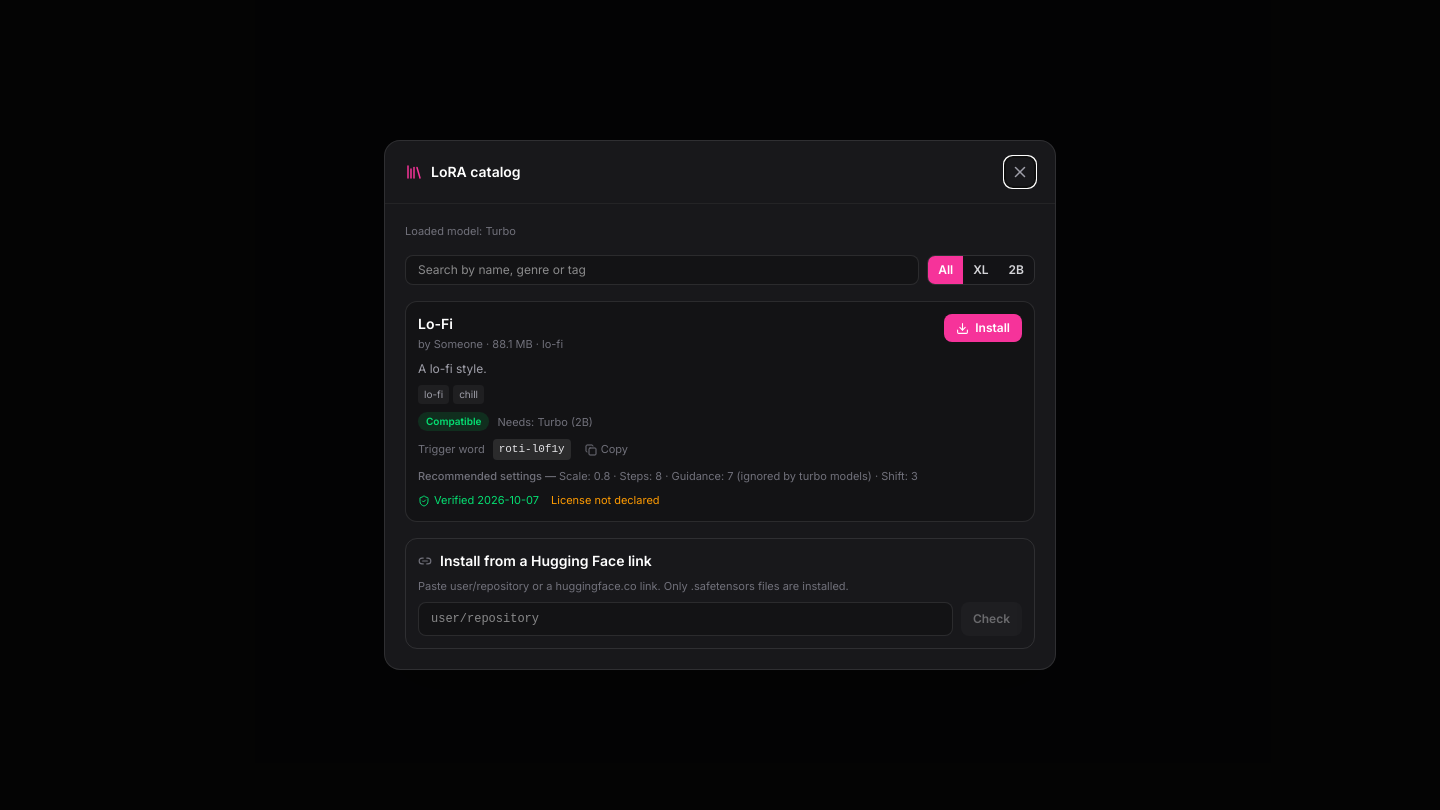
it: LoraCatalogModal › keeps following the progress when the parent renders again and again (the panel renders at every keystroke of the prompt)
Click the button "Install".
click(983, 328)  # box [944,314,1022,342]
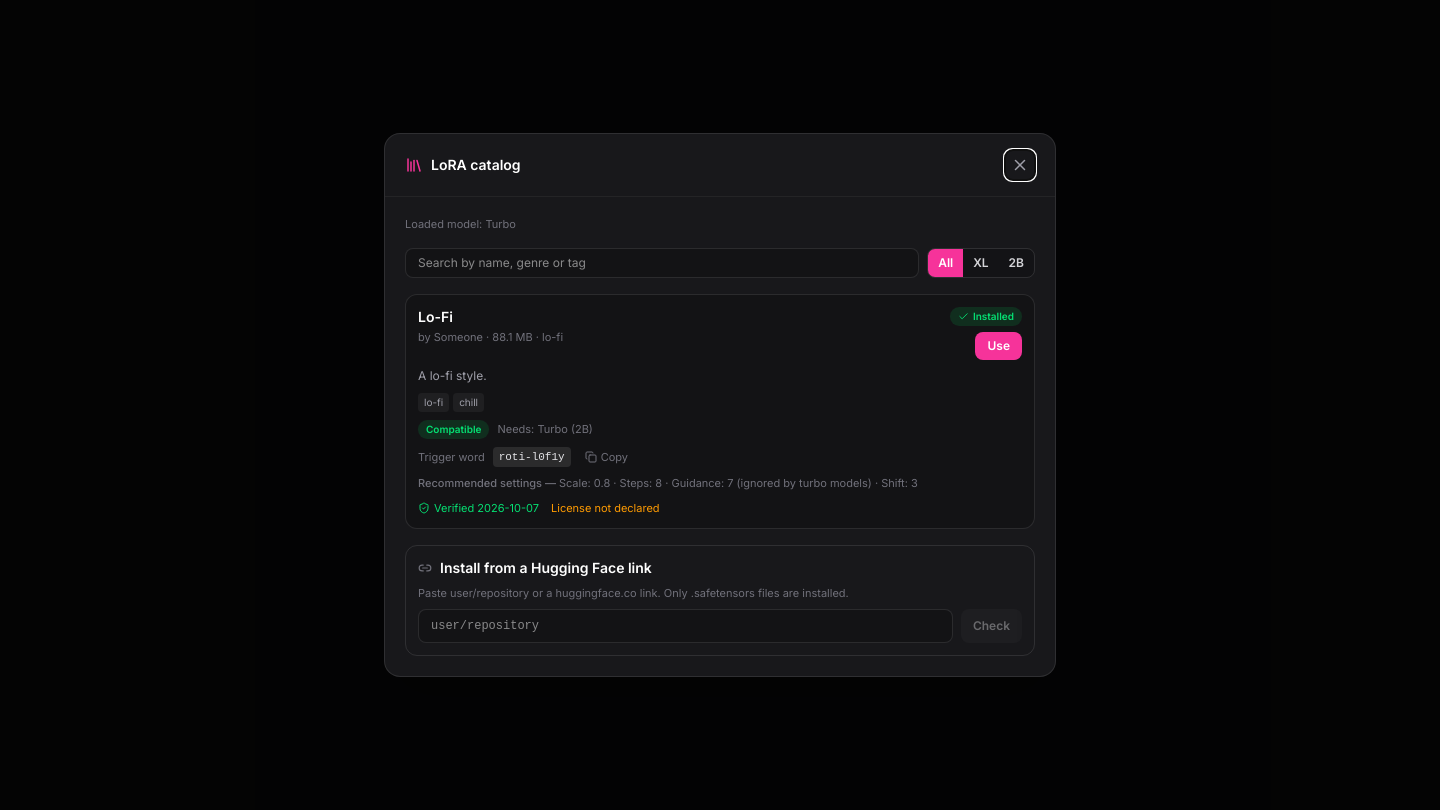
Expected: the element showing "Installed" is shown, [950,307,1022,326]
